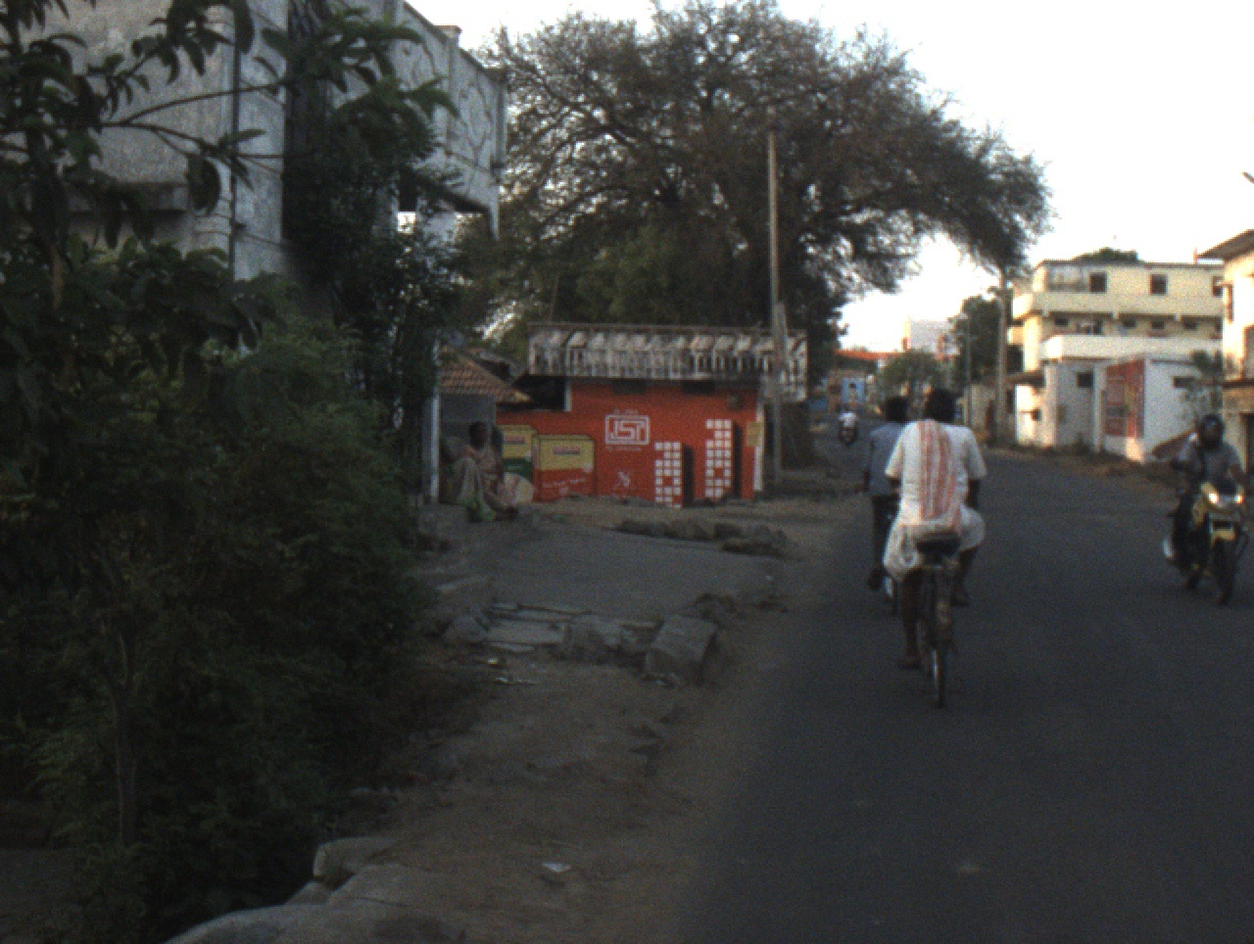bicycle: (896, 481, 977, 710), (847, 467, 912, 604)
motorcycle: (1161, 456, 1252, 608), (843, 424, 855, 444)
person: (455, 416, 537, 528), (429, 401, 498, 528)
rider: (875, 386, 992, 672), (1161, 409, 1250, 591), (857, 392, 919, 595), (837, 407, 858, 435)
